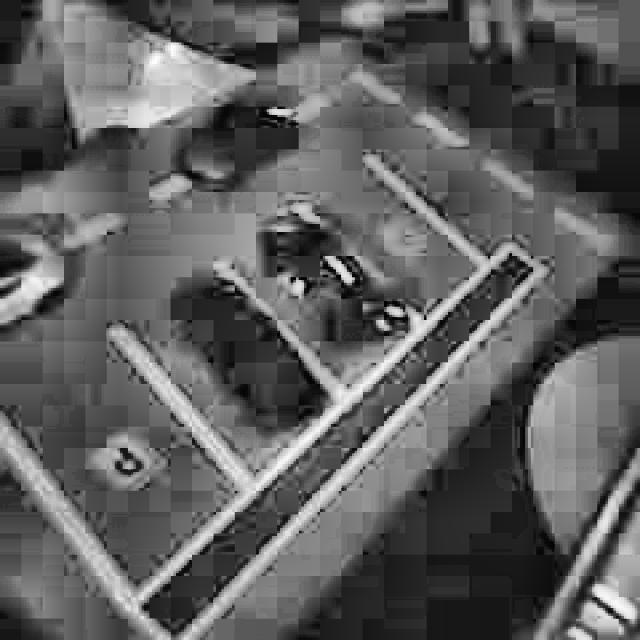car: (166, 273, 324, 436), (251, 212, 405, 354), (175, 95, 300, 185), (0, 230, 63, 323)
